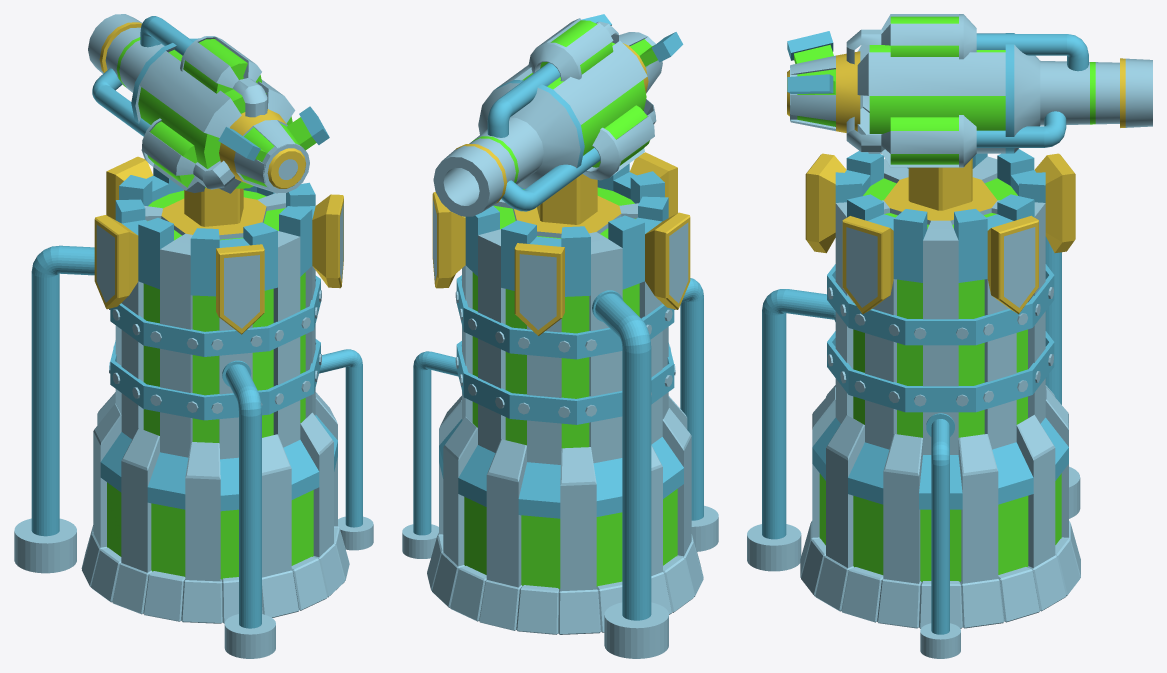
Rendered from PoisonTower_3.fbx.
3 views of the same model, side by side, from view 1: azimuth 30°, elevation 25°; view 2: azimuth 150°, elevation 25°; view 3: azimuth 270°, elevation 25° (orthographic). The views are drawn at different scales.
Visible parts, largest first — view 1: Tower, shotpoint, senter; view 2: Tower, shotpoint, senter; view 3: Tower, shotpoint, senter.
Part boxes in pixels (box(x1,y1,x2,y2)): Tower: box(14, 156, 373, 658); shotpoint: box(88, 14, 329, 193); senter: box(138, 49, 292, 188); Tower: box(402, 152, 718, 658); shotpoint: box(433, 14, 683, 216); senter: box(522, 42, 646, 155); Tower: box(747, 149, 1080, 658); shotpoint: box(787, 14, 1152, 167); senter: box(869, 45, 1005, 133).
Size of the model in its own units: 172 by 291 by 189.
